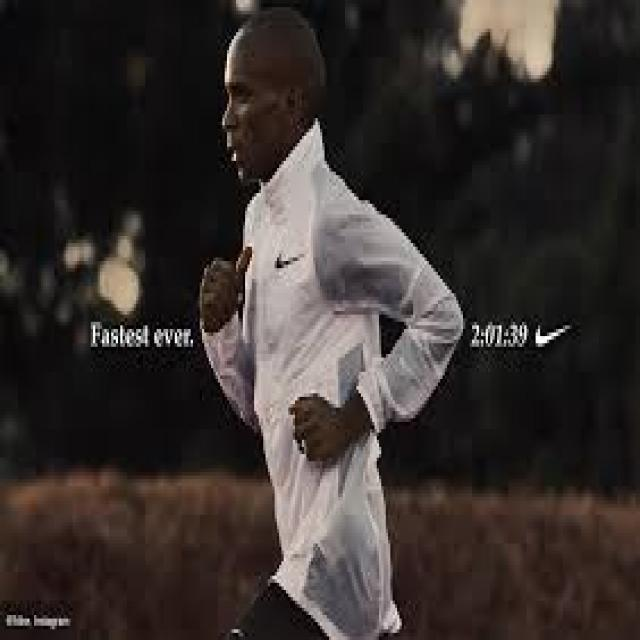Nike: (533, 321, 574, 353)
